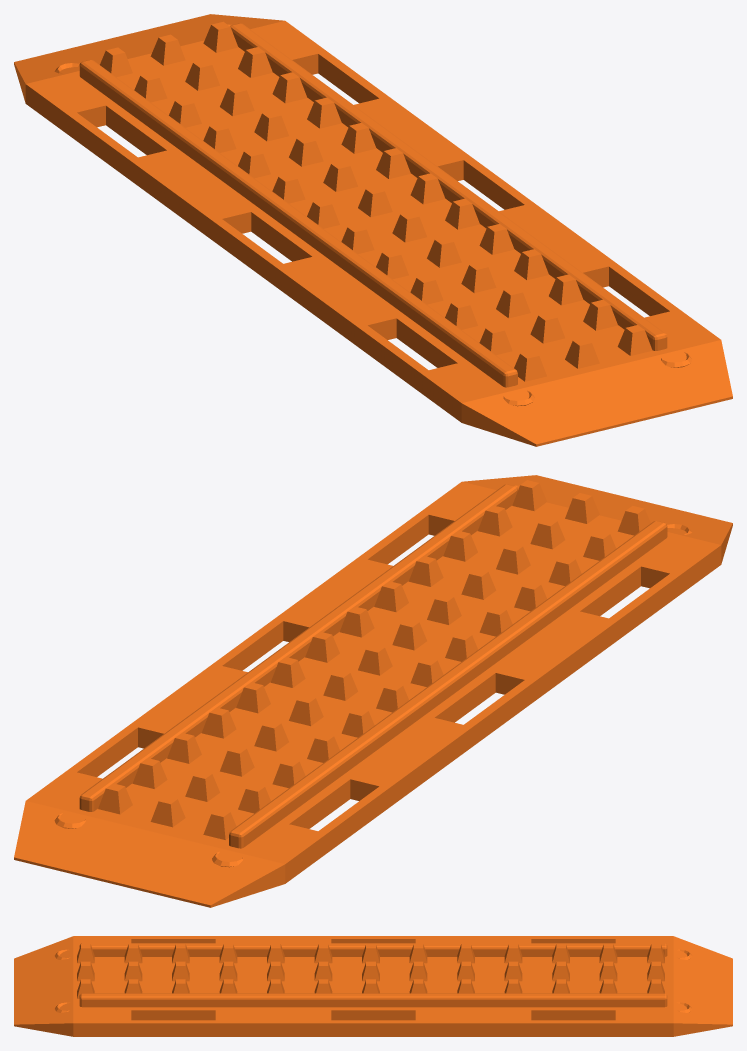
The model's file is traction-board.glb.
The picture shows the model from 3 angles, top to bottom: view 1: azimuth 30°, elevation 25°; view 2: azimuth 150°, elevation 25°; view 3: azimuth 270°, elevation 25°; orthographic projection. The views are drawn at different scales.
Parts seen in each view (by area): view 1: RecoveryBoard; view 2: RecoveryBoard; view 3: RecoveryBoard.
Part boxes in pixels (x1=…): RecoveryBoard: x1=14, y1=14, x2=732, y2=446; RecoveryBoard: x1=14, y1=475, x2=732, y2=907; RecoveryBoard: x1=14, y1=936, x2=732, y2=1036.
Bounding box in the file's own units: 0.33 × 0.052 × 1.15.
